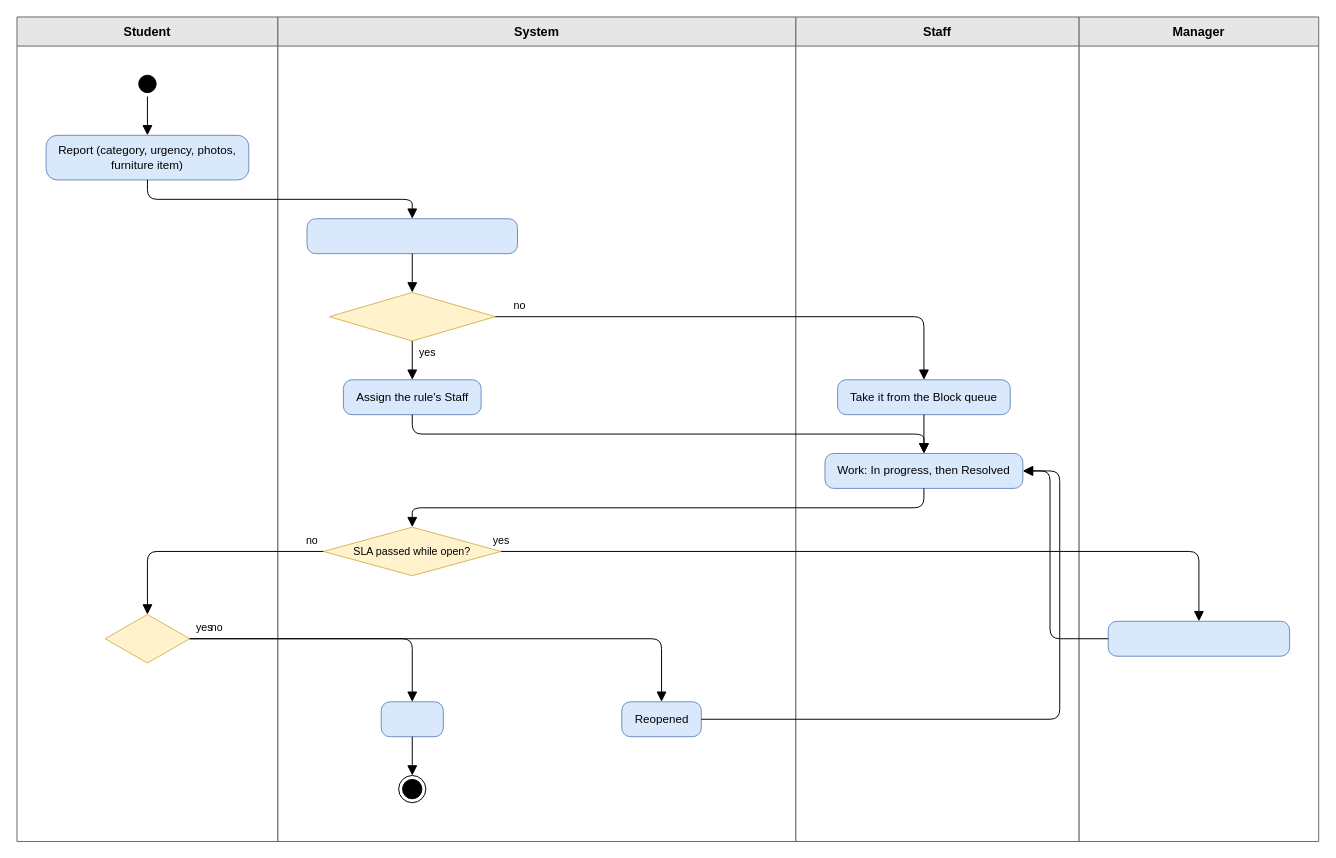
The diagram is 1336 pixels wide and 858 high, and some of its shapes have lost their labels. The shapes that lost their labels are listed below. From the top down, each one's centre as x and y in pixels, then its label:
At (x=411, y=236): "SLA due time from the Block's timer".
At (x=411, y=316): "Routing rule matches?".
At (x=147, y=638): "Fixed?".
At (x=1198, y=638): "Escalation: reassign or handle".
At (x=411, y=719): "Closed".
